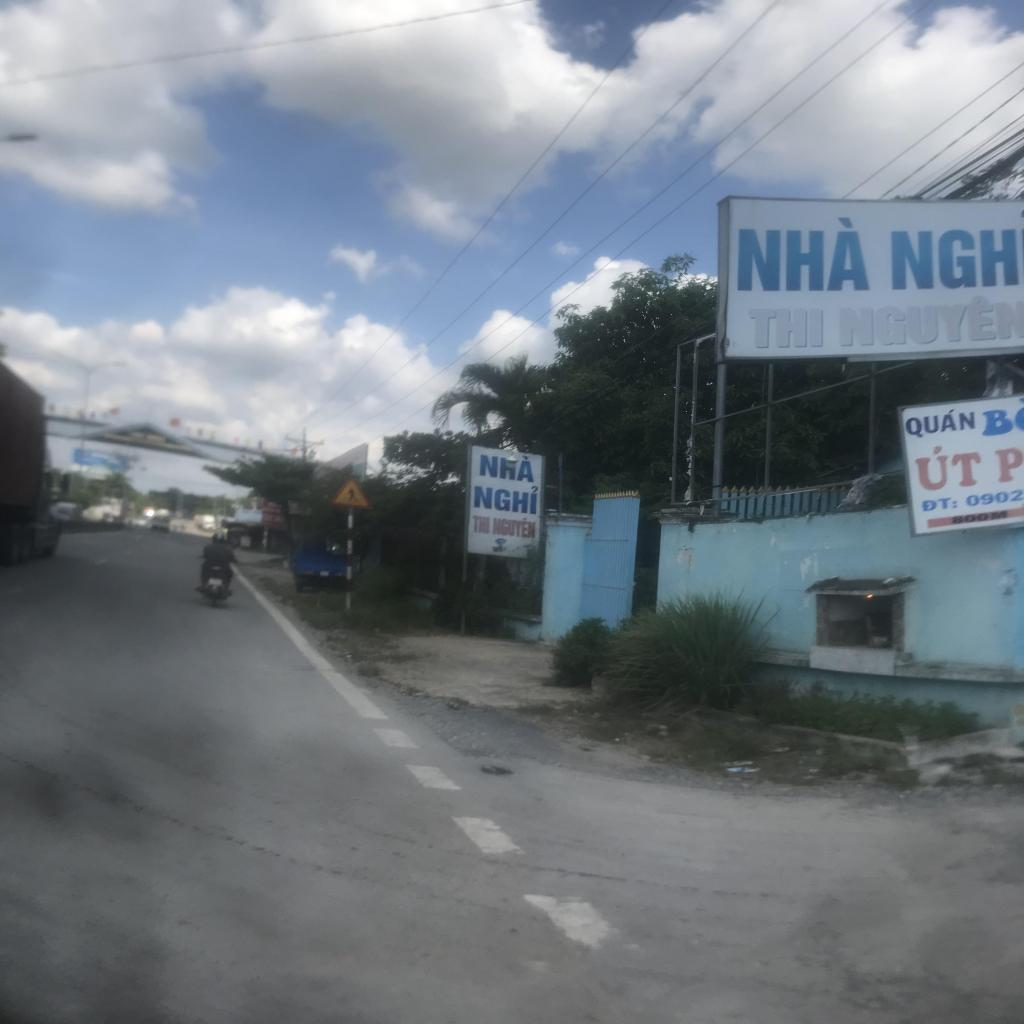chu_y_nguoi_di_bo_cat_ngang: (330, 477, 372, 509)
